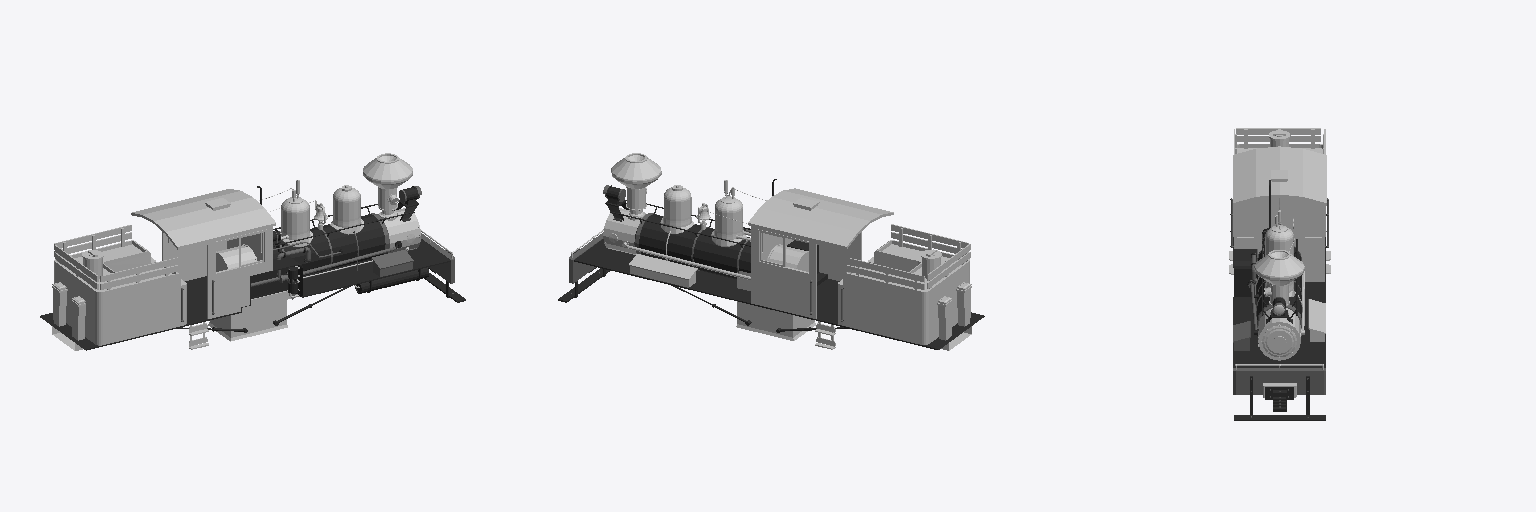
Rendered from body.obj.
3 renders of one model, left to right at view 1: azimuth 30°, elevation 25°; view 2: azimuth 150°, elevation 25°; view 3: azimuth 270°, elevation 25°, orthographic.
Parts seen in each view (by area): view 1: Cube.272_Cube.300, Cube.320_Cube.348, Cube.326_Cube.354, Circle.027, Cube.321_Cube.349, Cube.301_Cube.329, Cube.317_Cube.345, Sphere.038_Sphere.051, Sphere.039_Sphere.052, Circle.025, Cube.318_Cube.346, Circle.026 (+3 smaller); view 2: Cube.272_Cube.300, Cube.320_Cube.348, Cube.326_Cube.354, Circle.027, Cube.317_Cube.345, Cube.301_Cube.329, Sphere.038_Sphere.051, Sphere.039_Sphere.052, Cube.321_Cube.349, Circle.025, Circle.026, Cube.274_Cube.302 (+1 smaller); view 3: Cube.320_Cube.348, Cube.319_Cube.347, Cube.326_Cube.354, Cube.312_Cube.340, Cube.272_Cube.300, Circle.025, Cube.318_Cube.346, Sphere.038_Sphere.051, Cube.274_Cube.302, Cube.304_Cube.332.
Part boxes in pixels (bbox=[...]): Cube.272_Cube.300: bbox=[54, 240, 186, 345]; Cube.320_Cube.348: bbox=[131, 189, 275, 249]; Cube.326_Cube.354: bbox=[40, 239, 450, 350]; Circle.027: bbox=[273, 214, 384, 275]; Cube.321_Cube.349: bbox=[187, 227, 272, 318]; Cube.301_Cube.329: bbox=[208, 245, 287, 341]; Cube.317_Cube.345: bbox=[162, 232, 226, 281]; Sphere.038_Sphere.051: bbox=[281, 197, 312, 246]; Sphere.039_Sphere.052: bbox=[330, 188, 363, 234]; Circle.025: bbox=[363, 158, 412, 188]; Cube.318_Cube.346: bbox=[241, 256, 302, 310]; Circle.026: bbox=[384, 208, 419, 252]; Cube.272_Cube.300: bbox=[838, 240, 969, 344]; Cube.320_Cube.348: bbox=[748, 188, 893, 248]; Cube.326_Cube.354: bbox=[574, 239, 984, 349]; Circle.027: bbox=[639, 214, 750, 278]; Cube.317_Cube.345: bbox=[751, 226, 838, 318]; Cube.301_Cube.329: bbox=[736, 245, 815, 340]; Sphere.038_Sphere.051: bbox=[711, 196, 746, 246]; Sphere.039_Sphere.052: bbox=[660, 187, 694, 233]; Cube.321_Cube.349: bbox=[819, 232, 861, 280]; Circle.025: bbox=[611, 157, 661, 188]; Circle.026: bbox=[605, 208, 639, 254]; Cube.274_Cube.302: bbox=[629, 254, 697, 279]; Cube.320_Cube.348: bbox=[1233, 146, 1326, 205]; Cube.319_Cube.347: bbox=[1236, 197, 1322, 281]; Cube.326_Cube.354: bbox=[1233, 237, 1325, 367]; Cube.312_Cube.340: bbox=[1233, 368, 1325, 394]; Cube.272_Cube.300: bbox=[1237, 144, 1322, 236]; Circle.025: bbox=[1254, 254, 1304, 285]; Cube.318_Cube.346: bbox=[1234, 249, 1256, 296]; Sphere.038_Sphere.051: bbox=[1265, 225, 1293, 255]; Cube.274_Cube.302: bbox=[1308, 299, 1325, 333]; Cube.304_Cube.332: bbox=[1234, 415, 1325, 420].
Bounding box in the file's own units: 9.49 × 3.49 × 2.16.